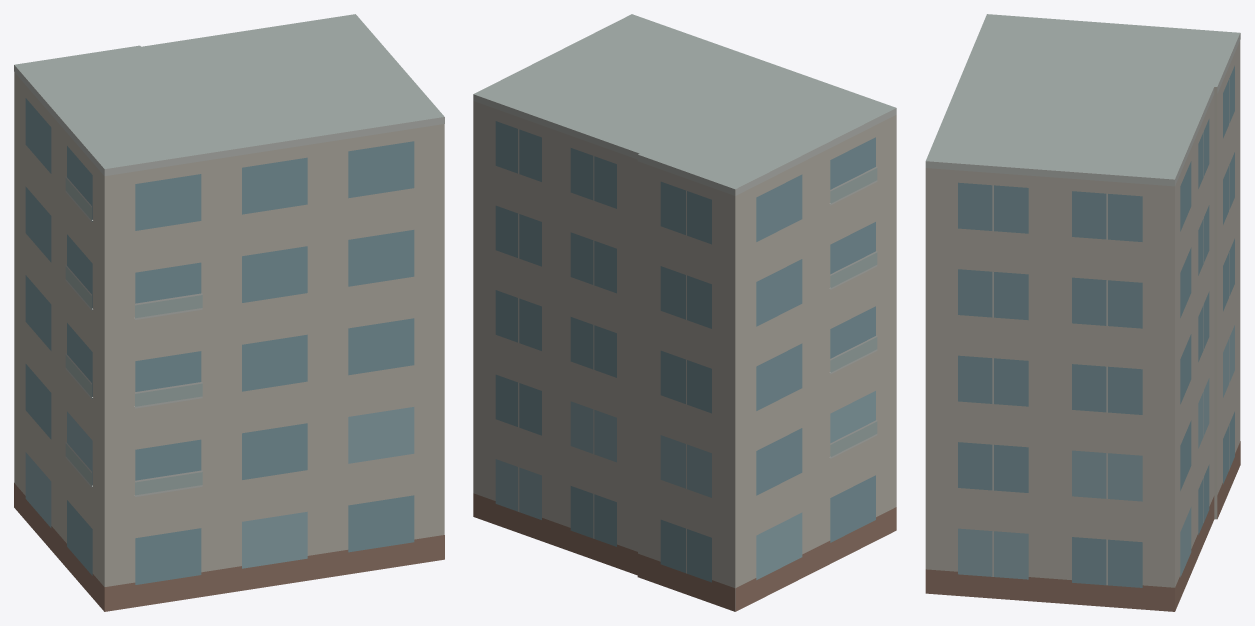
The model's file is survey-upis-32914761.glb.
3 renders of one model, left to right at view 1: azimuth 30°, elevation 25°; view 2: azimuth 150°, elevation 25°; view 3: azimuth 270°, elevation 25°, orthographic. The views are drawn at different scales.
Visible parts, largest first — view 1: survey-upis-32914761.tmp; view 2: survey-upis-32914761.tmp; view 3: survey-upis-32914761.tmp.
Boxes of the visible parts, x1,y1,x2,y2 form: survey-upis-32914761.tmp: (14,14,444,611); survey-upis-32914761.tmp: (473,14,896,611); survey-upis-32914761.tmp: (925,14,1240,611).
Size of the model in its own units: 12.66 by 15.4 by 10.17.
